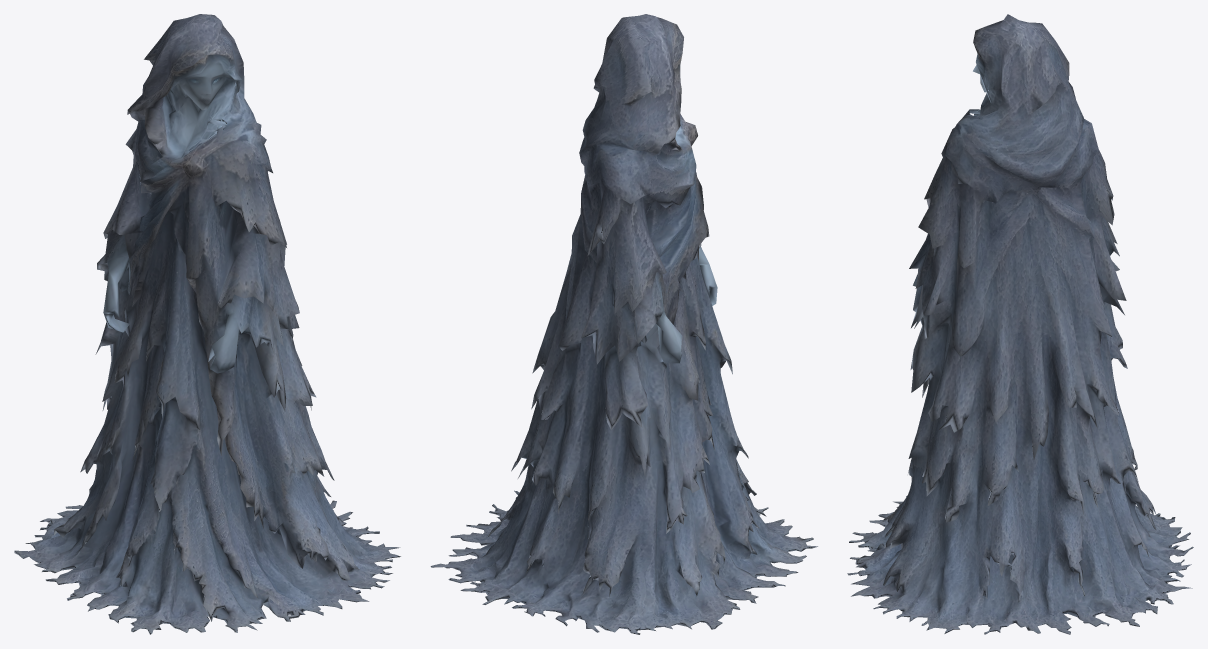
File: ghost.glb
The picture shows the model from 3 angles, left to right: view 1: azimuth 30°, elevation 25°; view 2: azimuth 150°, elevation 25°; view 3: azimuth 270°, elevation 25°; orthographic projection.
Visible parts, largest first — view 1: tripo_node_08fb65a8-bfa9-40b8-b890-47d0a20462cb; view 2: tripo_node_08fb65a8-bfa9-40b8-b890-47d0a20462cb; view 3: tripo_node_08fb65a8-bfa9-40b8-b890-47d0a20462cb.
Part boxes in pixels (x1,y1,x2,y2): tripo_node_08fb65a8-bfa9-40b8-b890-47d0a20462cb: (14,14,400,634); tripo_node_08fb65a8-bfa9-40b8-b890-47d0a20462cb: (430,14,817,634); tripo_node_08fb65a8-bfa9-40b8-b890-47d0a20462cb: (847,14,1193,634).
Size of the model in its own units: 0.5815 by 0.9979 by 0.5823.
1 material, 1 textured.
